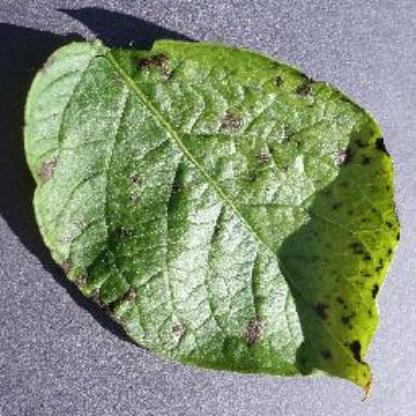Early-Blight: (20, 32, 400, 388)
